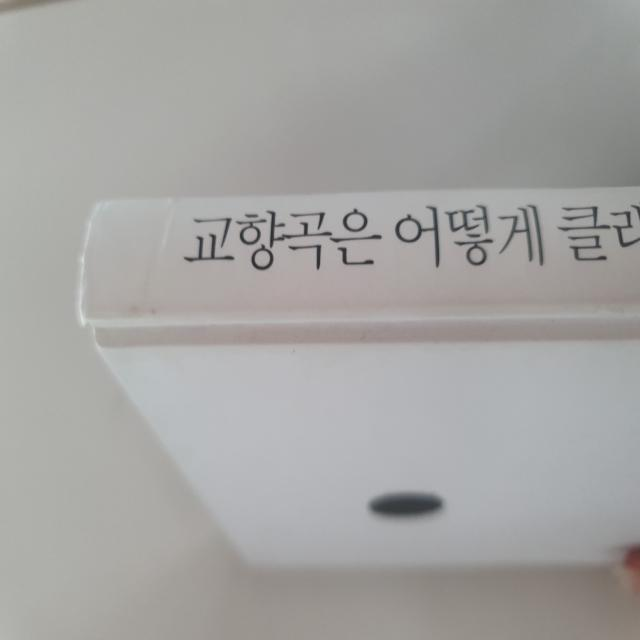Wornout: (76, 255, 88, 312)
